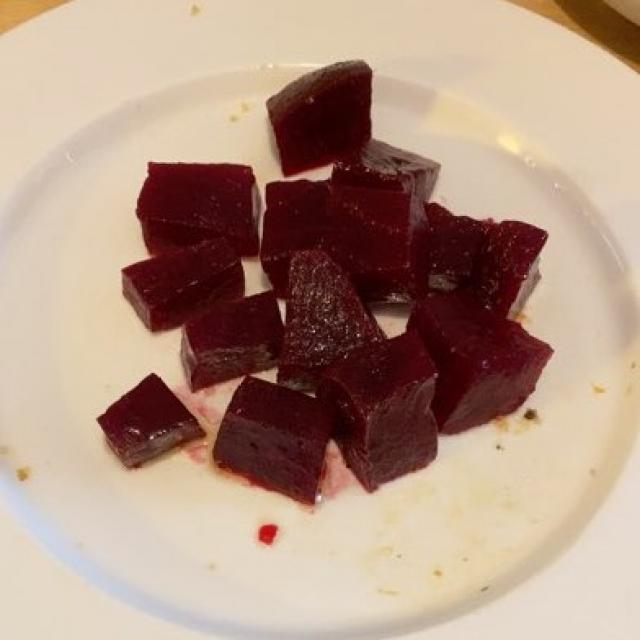beetroot-steamed-without-addition-of-salt: (109, 70, 540, 495)
